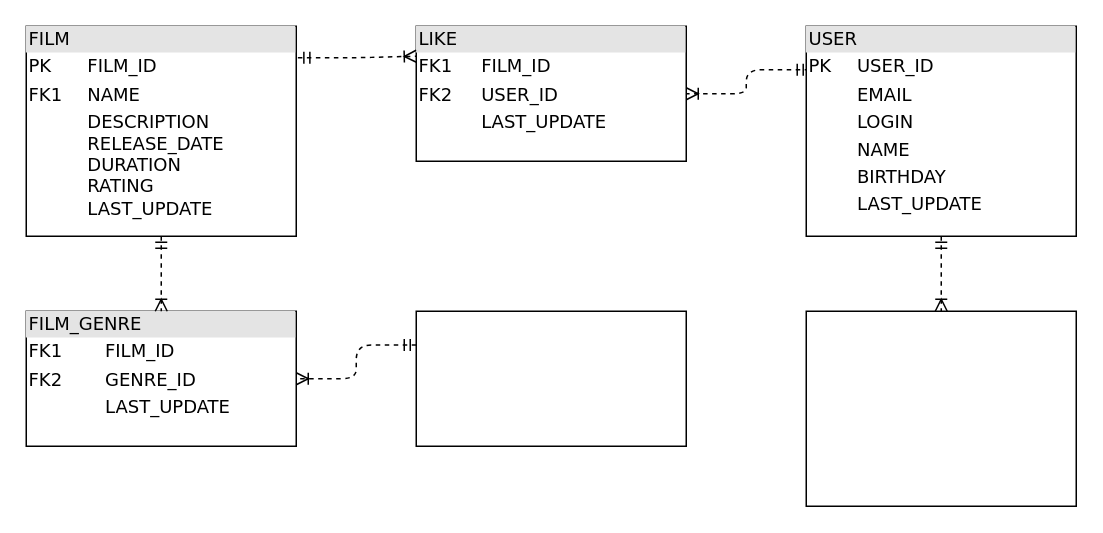
Image size: 1103x533. Some labels were removed from this diagram. The shapes that lost their labels are listed below. From the top down, each one's centre as x and y in pixels, then its label:
At [550,378]: "GENRE PK GENRE_ID NAME LAST_UPDATE".
At [940,408]: "FRIEND FK1 USER1_ID FK2 USER2_ID STATUS LAST_UPDATE".
